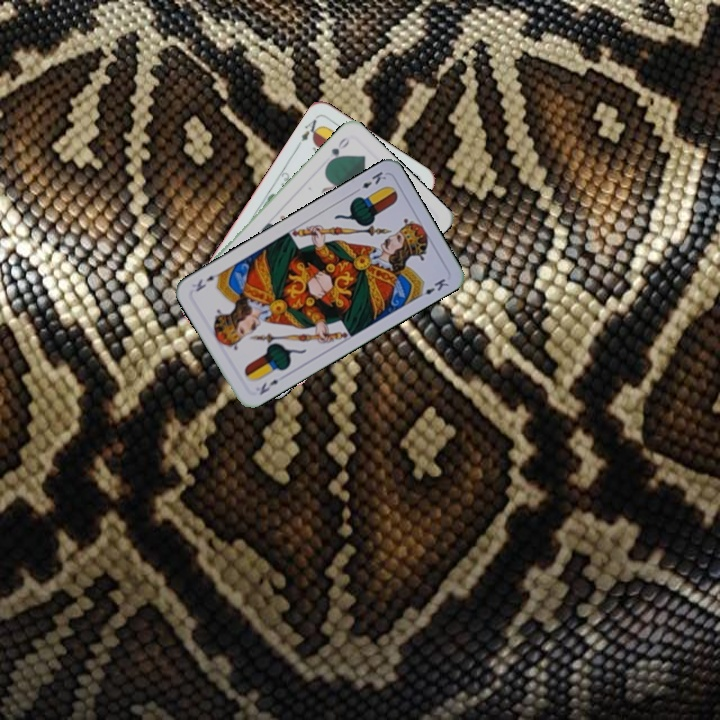EA: (293, 115, 324, 150)
EK: (350, 167, 389, 196), (255, 375, 281, 398)
GO: (323, 133, 352, 167)
